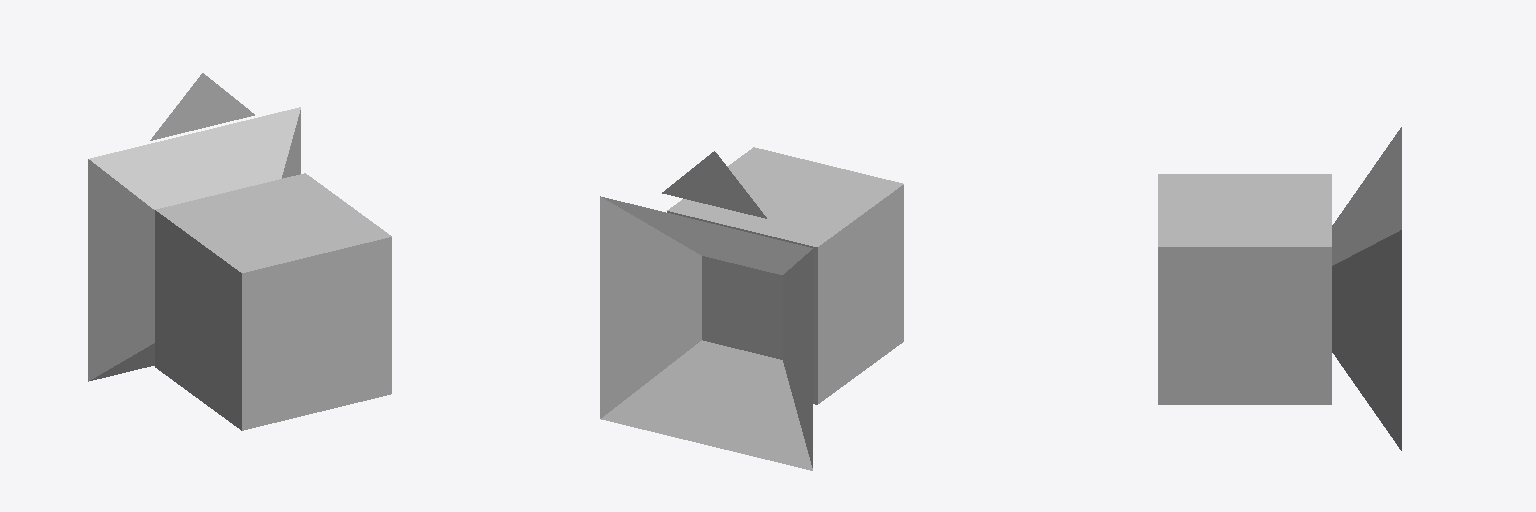
File: camera.obj
3 views of the same model, side by side, from view 1: azimuth 30°, elevation 25°; view 2: azimuth 150°, elevation 25°; view 3: azimuth 270°, elevation 25° (orthographic).
Visible parts, largest first — view 1: Cube, Cone_Cone.001, Plane; view 2: Cone_Cone.001, Cube, Plane; view 3: Cube, Cone_Cone.001.
Boxes of the visible parts, box(x1,y1,x2,y2) form: Cube: box(155, 173, 391, 430); Cone_Cone.001: box(88, 107, 300, 381); Plane: box(150, 73, 254, 140); Cone_Cone.001: box(600, 196, 812, 470); Cube: box(667, 147, 903, 404); Plane: box(662, 151, 766, 218); Cube: box(1158, 174, 1331, 404); Cone_Cone.001: box(1332, 127, 1401, 450).
Size of the model in its own units: 0.1414 by 0.1834 by 0.1407.